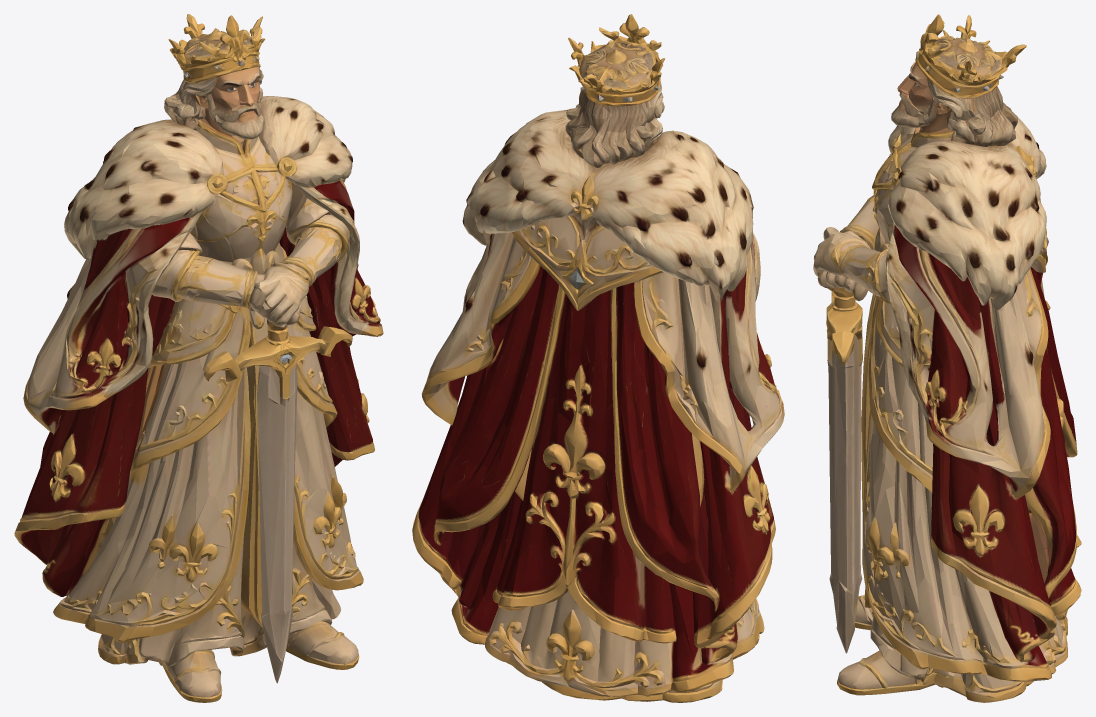
The model's file is king_white.glb.
3 renders of one model, left to right at view 1: azimuth 30°, elevation 25°; view 2: azimuth 150°, elevation 25°; view 3: azimuth 270°, elevation 25°, orthographic.
Parts seen in each view (by area): view 1: output_unwrapped; view 2: output_unwrapped; view 3: output_unwrapped.
Boxes of the visible parts, left/top/right/bottom form: output_unwrapped: left=14, top=14, right=383, bottom=702; output_unwrapped: left=412, top=14, right=784, bottom=702; output_unwrapped: left=813, top=14, right=1081, bottom=702.
Bounding box in the file's own units: 0.0778 × 0.14 × 0.0533.
Materials: 1 (1 with a texture image).
